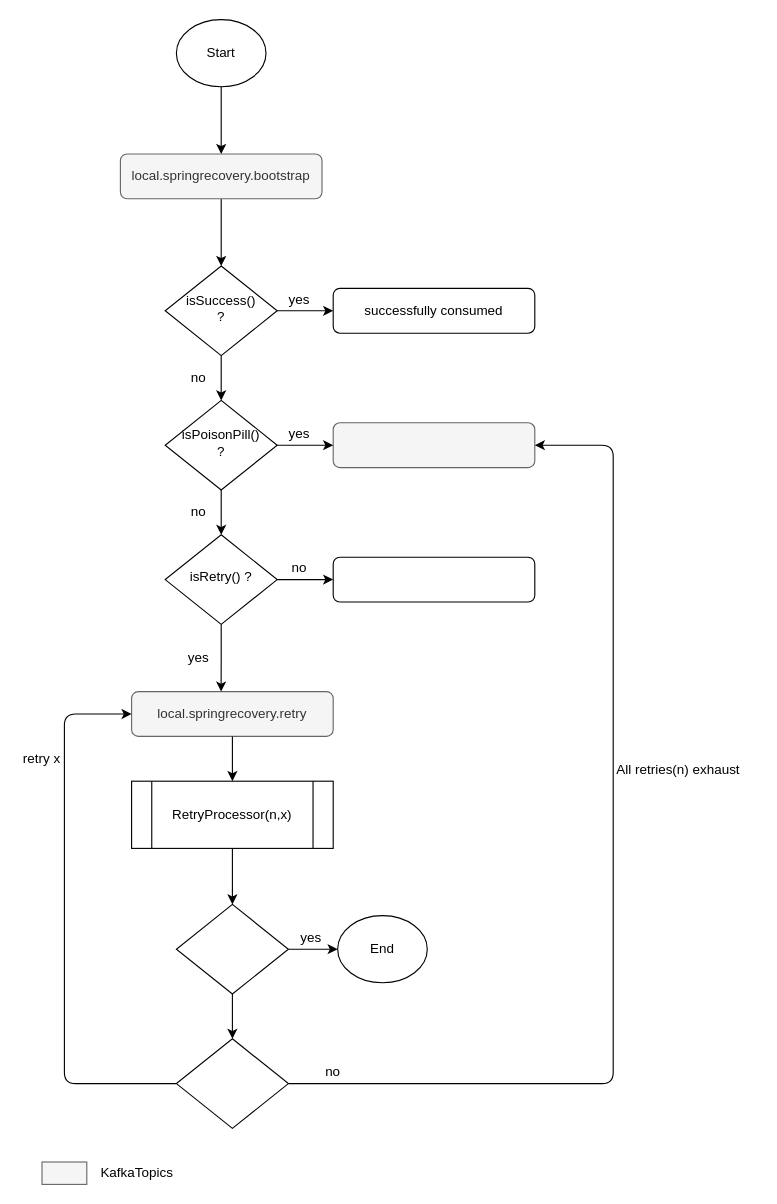
Some shapes in this 777 by 1204 pixel diagram are drawn without their labels. The centre of each missing label's shape, as x and y in pixels:
"isRetryAvail (n,x) ?" goes at point 231,1083.
"isSuccessful (n,x) ?" goes at point 231,948.
"local.springrecovery.dlt" goes at point 433,445.
"unknown message log" goes at point 433,579.
